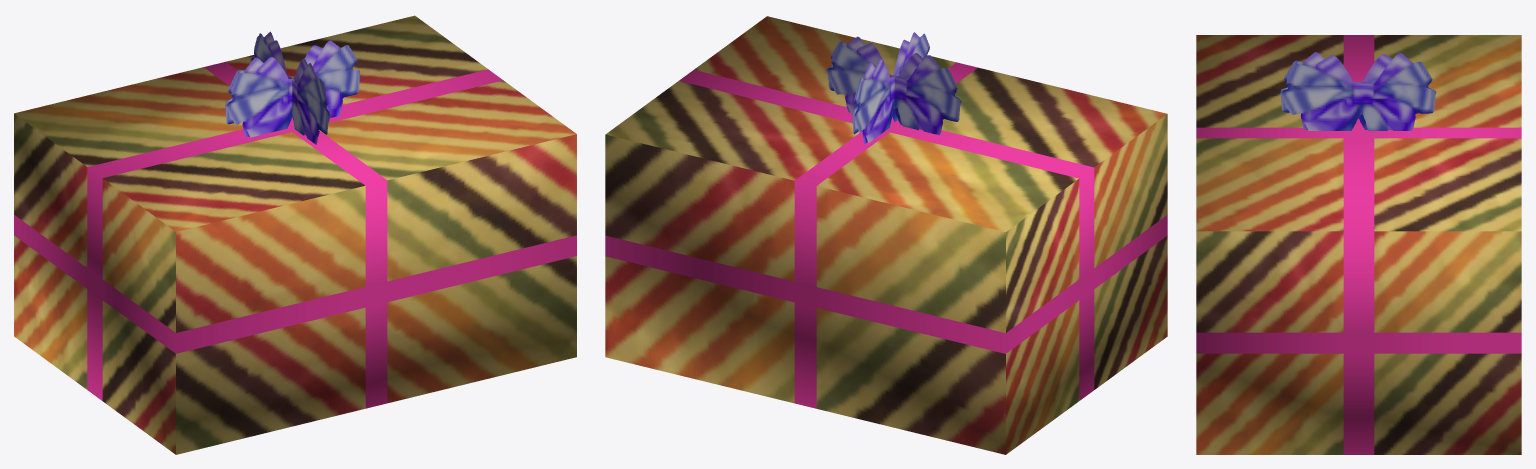
Rendered from gift_2.FBX.
3 renders of one model, left to right at view 1: azimuth 30°, elevation 25°; view 2: azimuth 150°, elevation 25°; view 3: azimuth 270°, elevation 25°, orthographic.
Visible parts, largest first — view 1: gift_2; view 2: gift_2; view 3: gift_2.
Boxes of the visible parts, left/top/right/bottom form: gift_2: left=14, top=15, right=576, bottom=454; gift_2: left=605, top=16, right=1167, bottom=454; gift_2: left=1196, top=35, right=1521, bottom=454.
Size of the model in its own units: 93.48 by 67.17 by 65.41.
